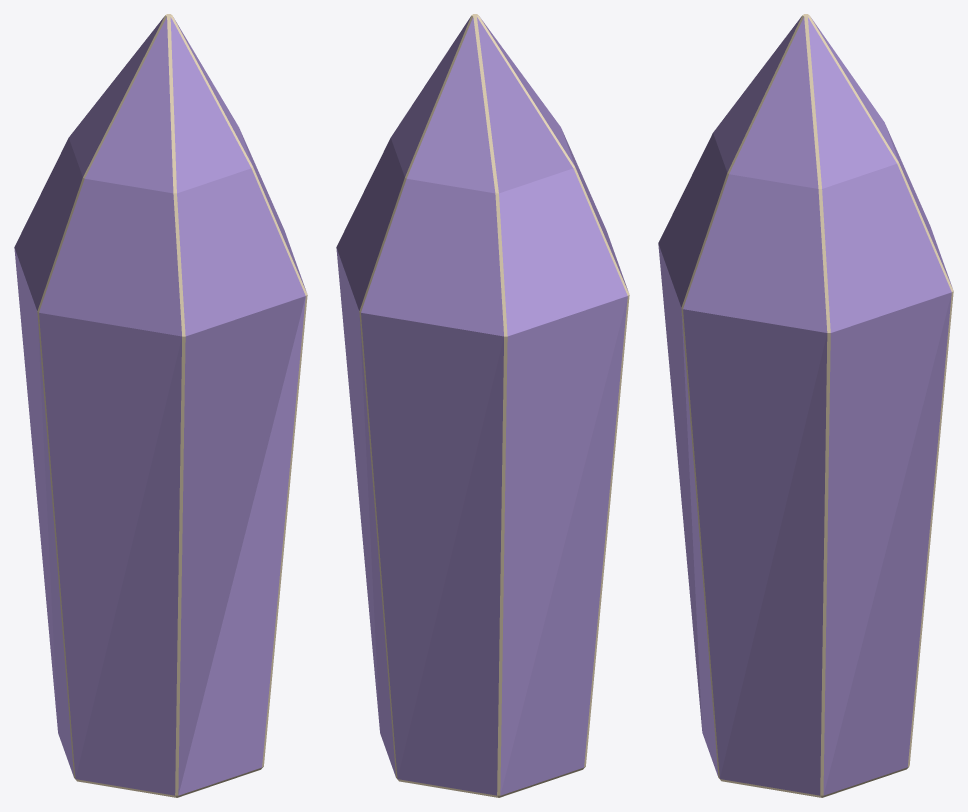
The picture shows the model from 3 angles, left to right: view 1: azimuth 30°, elevation 25°; view 2: azimuth 150°, elevation 25°; view 3: azimuth 270°, elevation 25°; orthographic projection.
Visible parts, largest first — view 1: Crystal_Lilac_A_Geometry; view 2: Crystal_Lilac_A_Geometry; view 3: Crystal_Lilac_A_Geometry.
Boxes of the visible parts, x1,y1,x2,y2 form: Crystal_Lilac_A_Geometry: (14, 14, 307, 797); Crystal_Lilac_A_Geometry: (336, 14, 629, 797); Crystal_Lilac_A_Geometry: (658, 14, 953, 797).
Bounding box in the file's own units: 0.726 × 1.9 × 0.6862.
